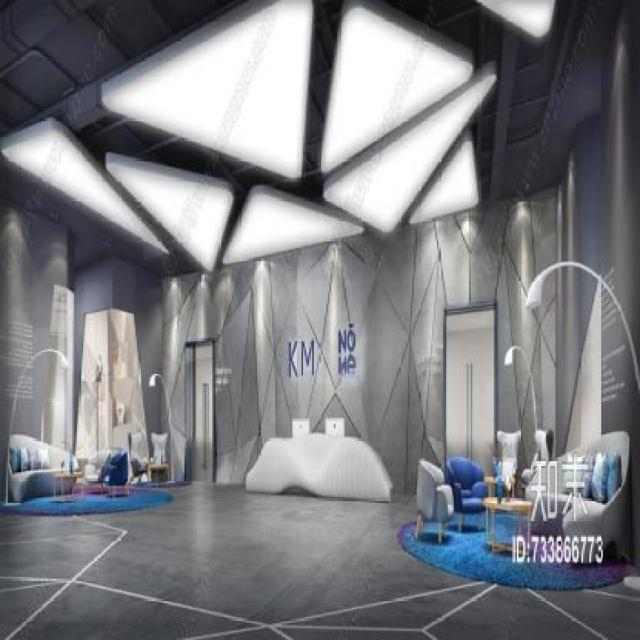frontdesk: (242, 408, 401, 519)
